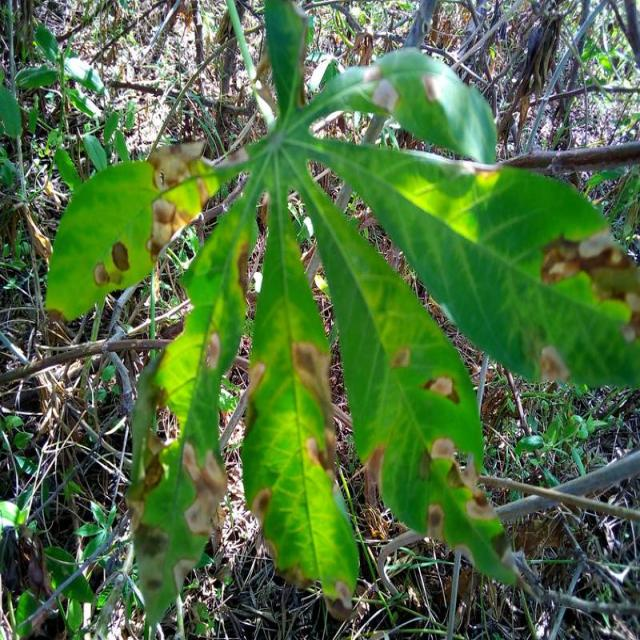cassava leaf: (42, 1, 638, 628), (294, 134, 638, 390), (240, 182, 360, 616), (43, 158, 164, 321)
